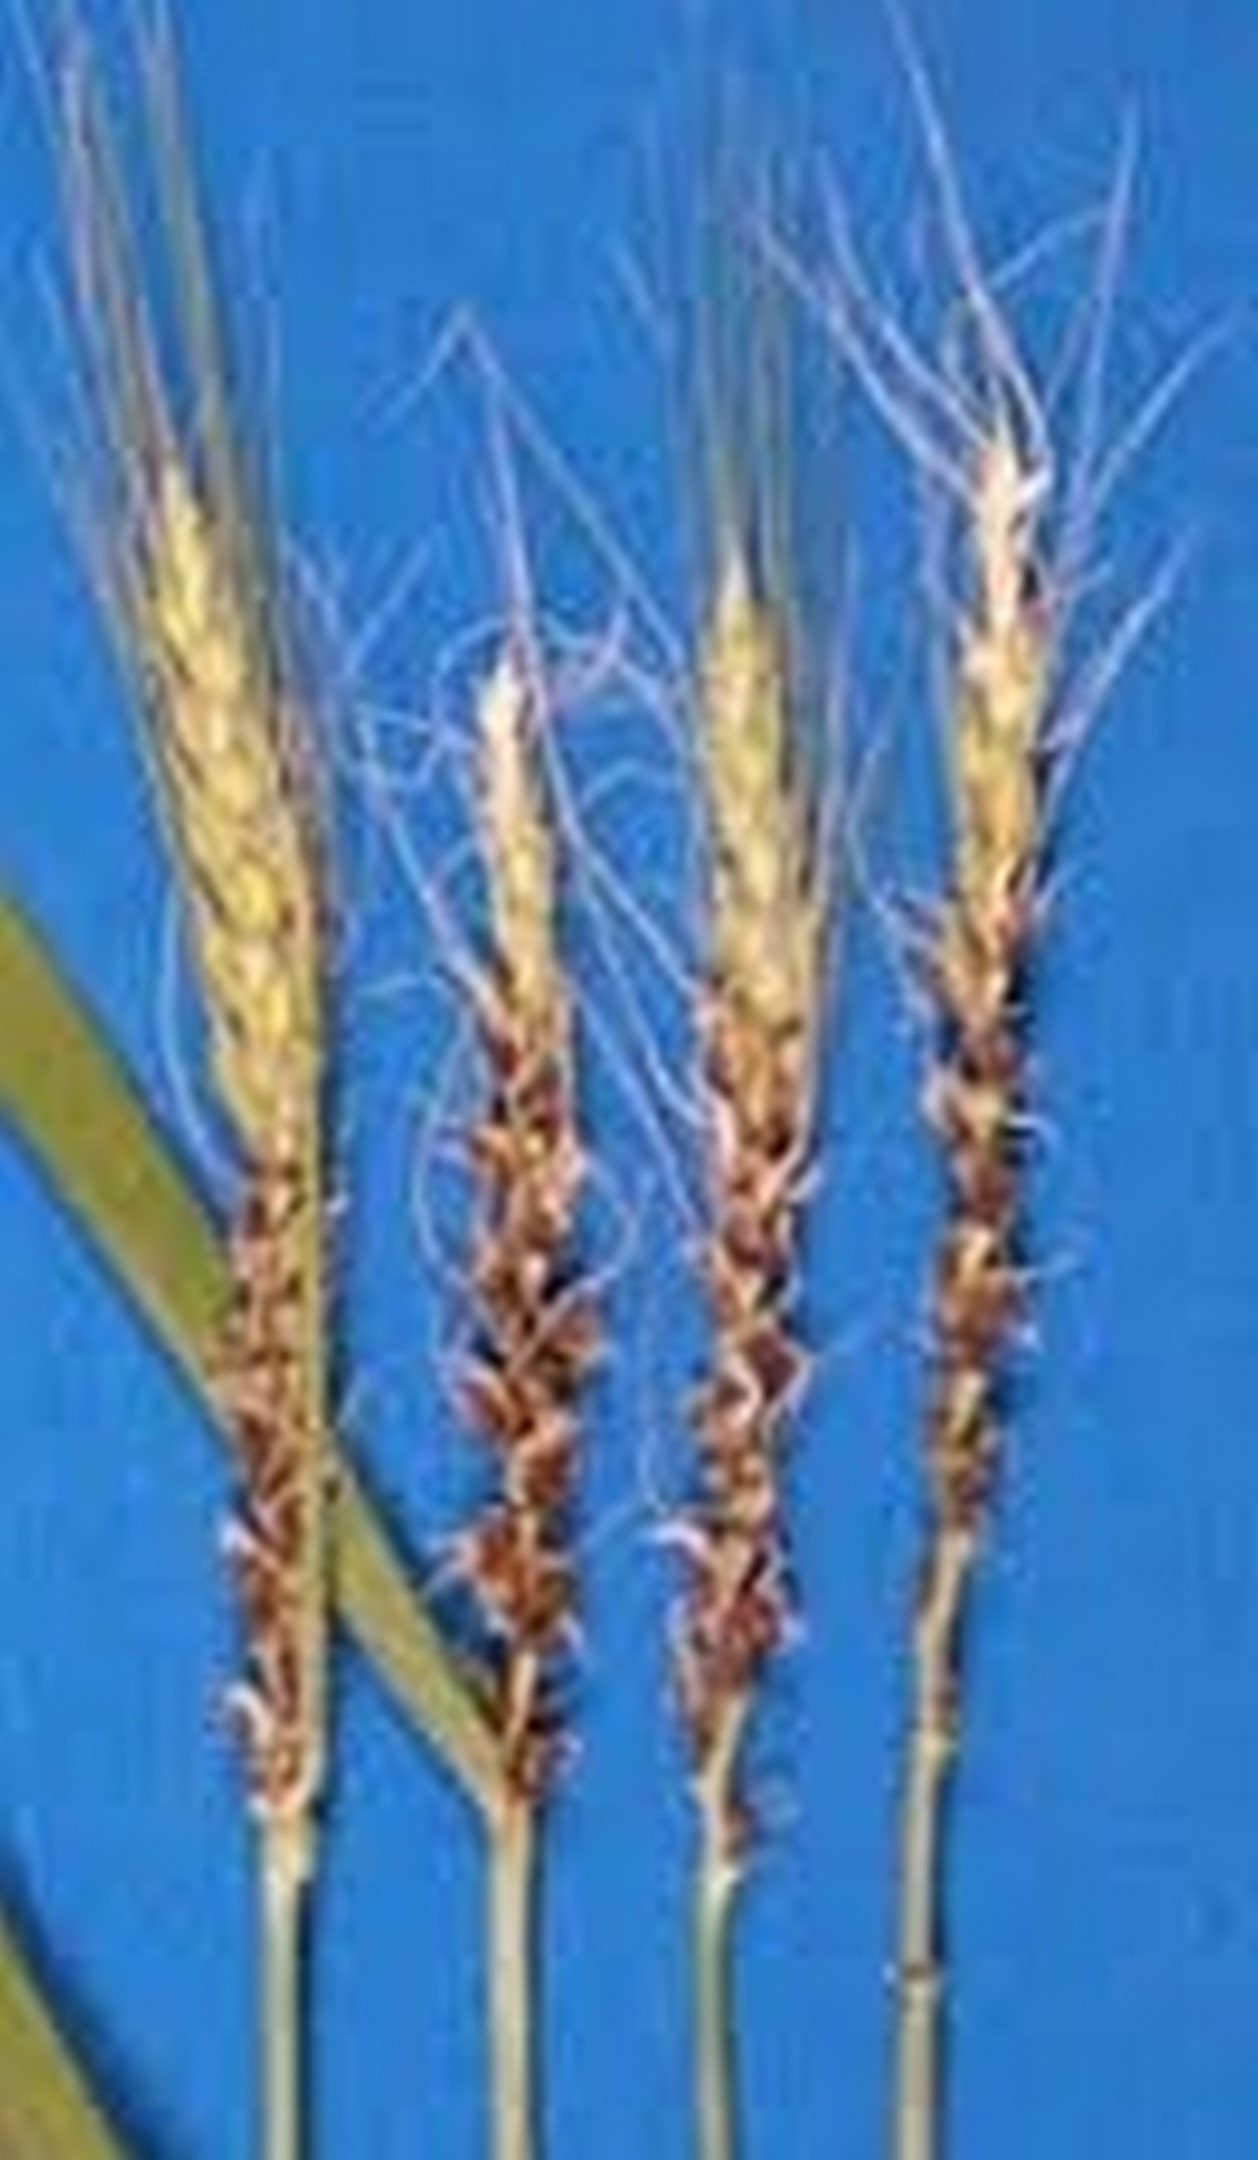Wheat Loose Smut: (136, 936, 1149, 1798)
